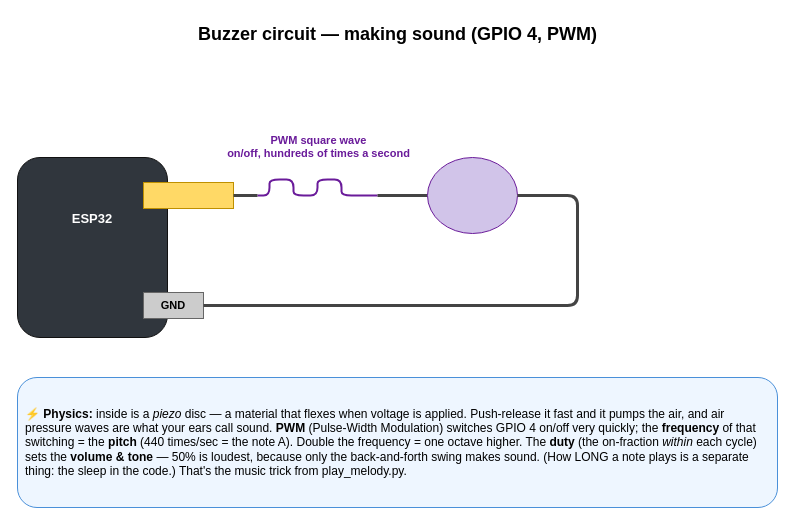
Some shapes in this 795 by 525 pixel diagram are drawn without their labels. The centre of each missing label's shape, as x and y in pixels:
GPIO 4 (PWM): (188,195)
🔊 buzzer (piezo disc): (472,195)
